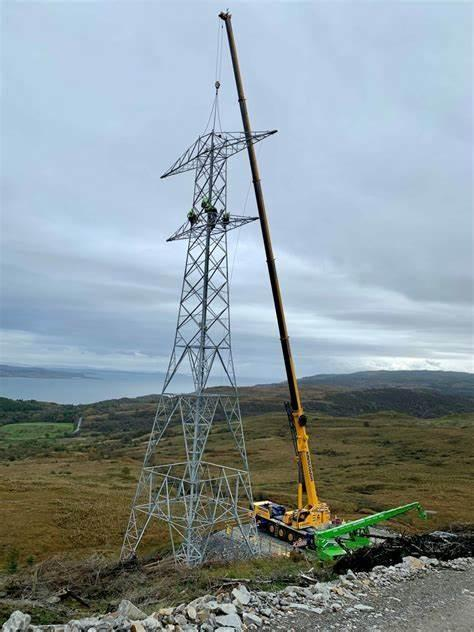power_tower: (121, 118, 281, 576)
